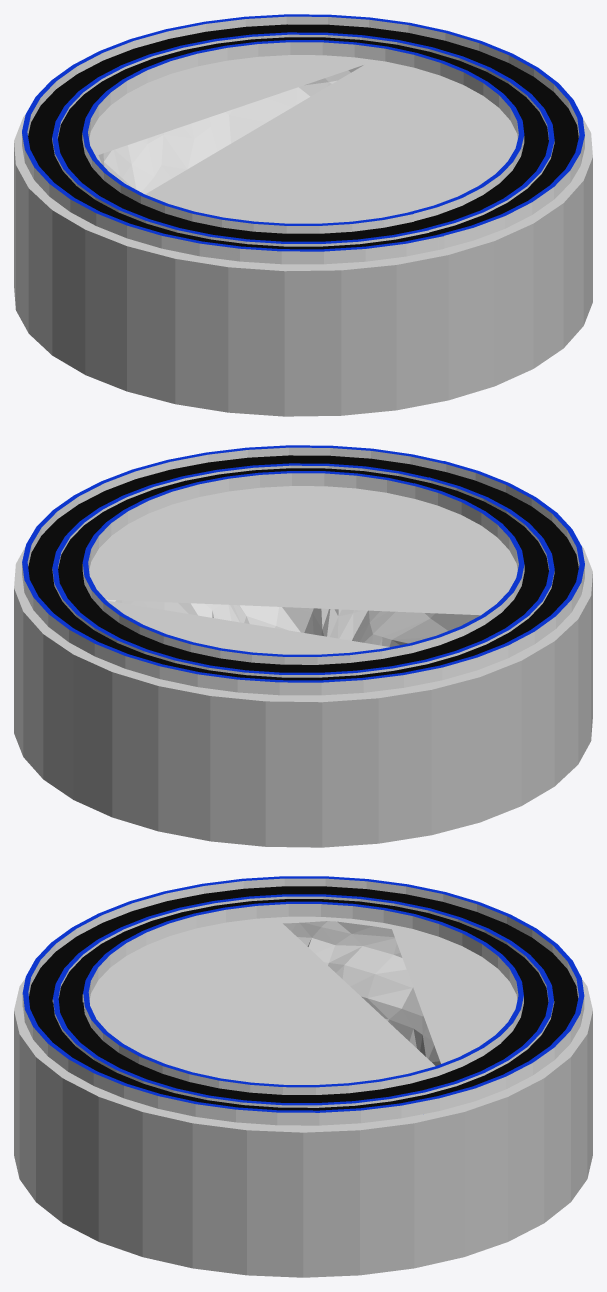
Rendered from Moat.fbx.
The picture shows the model from 3 angles, top to bottom: view 1: azimuth 30°, elevation 25°; view 2: azimuth 150°, elevation 25°; view 3: azimuth 270°, elevation 25°; orthographic projection.
Visible parts, largest first — view 1: Cylinder, Plane; view 2: Cylinder, Plane; view 3: Cylinder, Plane.
Part boxes in pixels (x1,y1,x2,y2): Cylinder: (14,55,592,416); Plane: (22,14,584,264); Cylinder: (14,486,592,847); Plane: (22,445,584,695); Cylinder: (14,916,592,1277); Plane: (22,876,584,1125).
Size of the model in its own units: 1710 by 525 by 1710.
